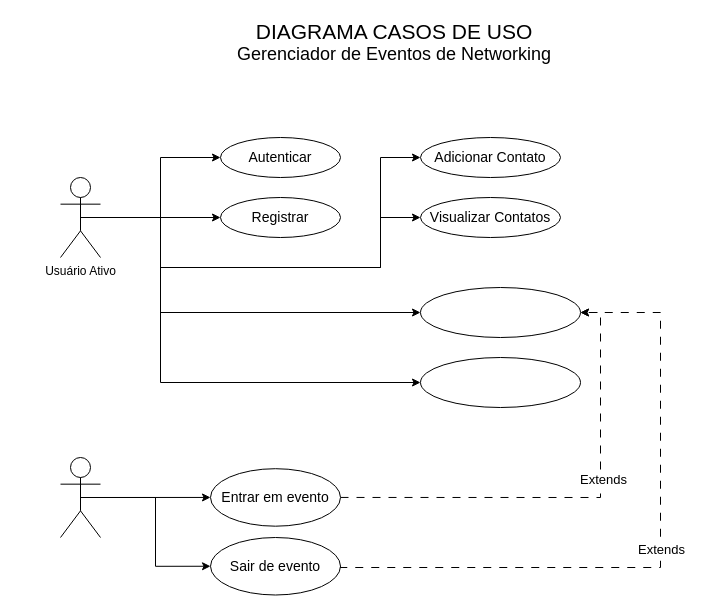
This 702x612 diagram has some shape labels left out. The centre of each missing label's shape, as x and y in pixels:
"Agendar Evento de Networking" belongs at [500,312].
"Gerenciar Evento de Networking" belongs at [500,382].
"Usuário com solicitação" belongs at [80,497].
